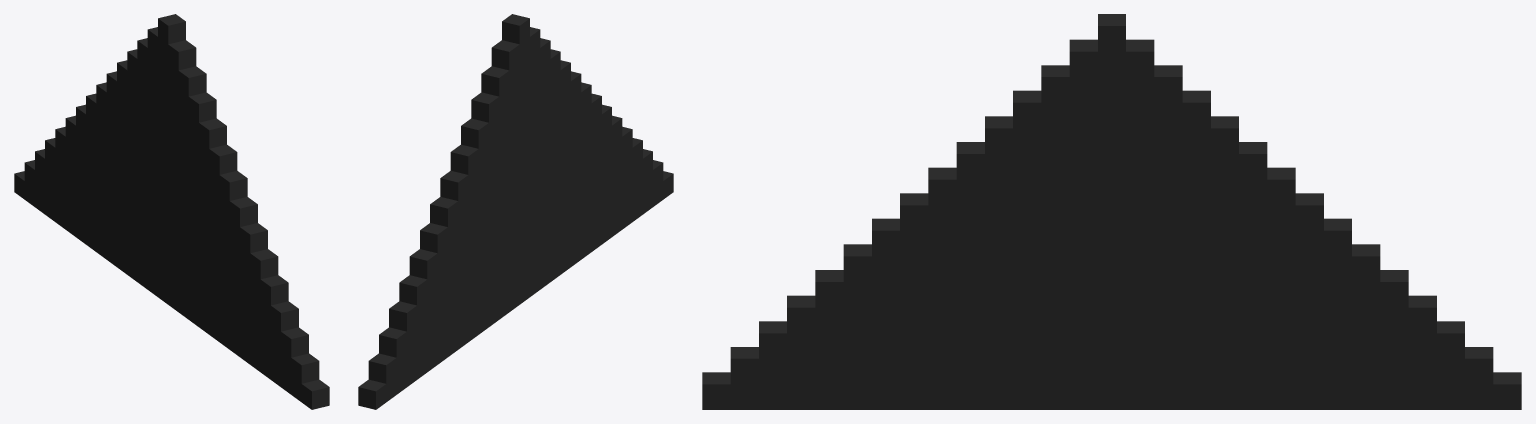
File: ConstructionMaterials-19.obj
3 views of the same model, side by side, from view 1: azimuth 30°, elevation 25°; view 2: azimuth 150°, elevation 25°; view 3: azimuth 270°, elevation 25° (orthographic). The views are drawn at different scales.
Bounding box in the file's own units: 0.1 × 1.5 × 2.9.
1 material, 1 textured.
